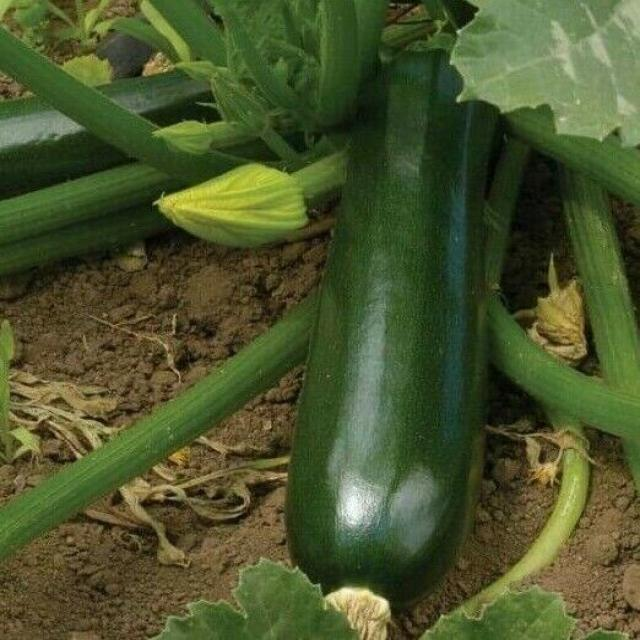Zucchini: (298, 36, 488, 580)
